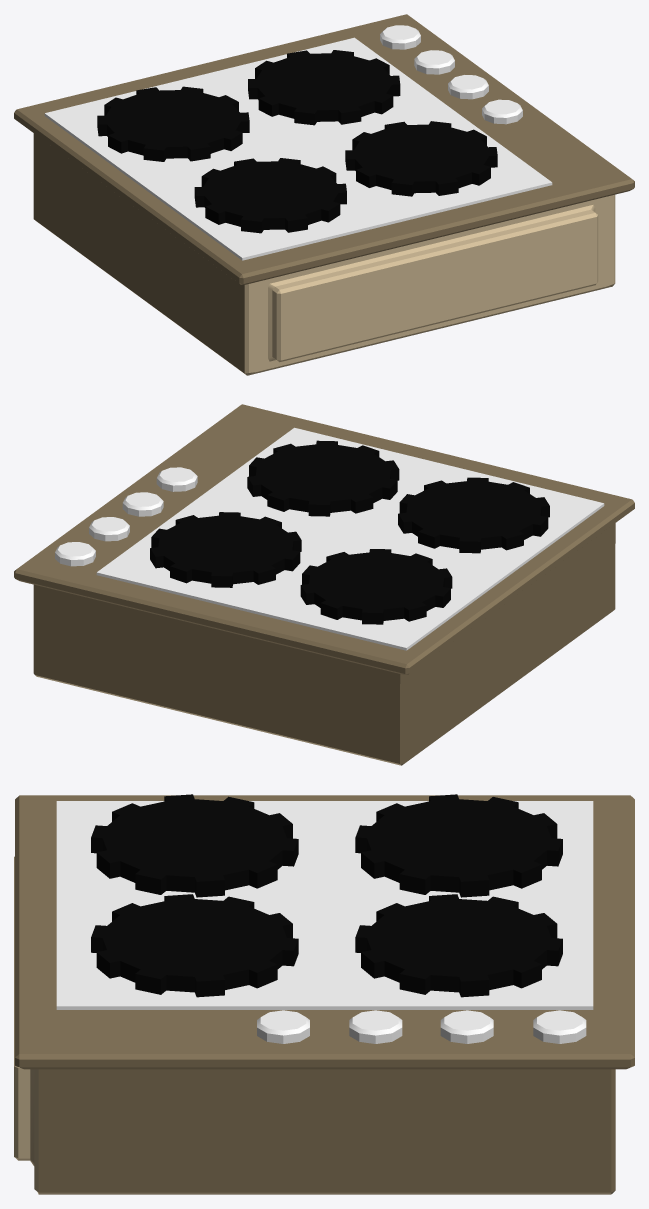
Rendered from Cooker.fbx.
The picture shows the model from 3 angles, top to bottom: view 1: azimuth 30°, elevation 25°; view 2: azimuth 150°, elevation 25°; view 3: azimuth 270°, elevation 25°; orthographic projection. The views are drawn at different scales.
Parts seen in each view (by area): view 1: pCylinder15; view 2: pCylinder15; view 3: pCylinder15.
Part boxes in pixels (x1,y1,x2,y2): pCylinder15: (14, 14, 634, 375); pCylinder15: (14, 404, 634, 765); pCylinder15: (14, 794, 634, 1194).
Bounding box in the file's own units: 52.11 × 15.6 × 52.21.
